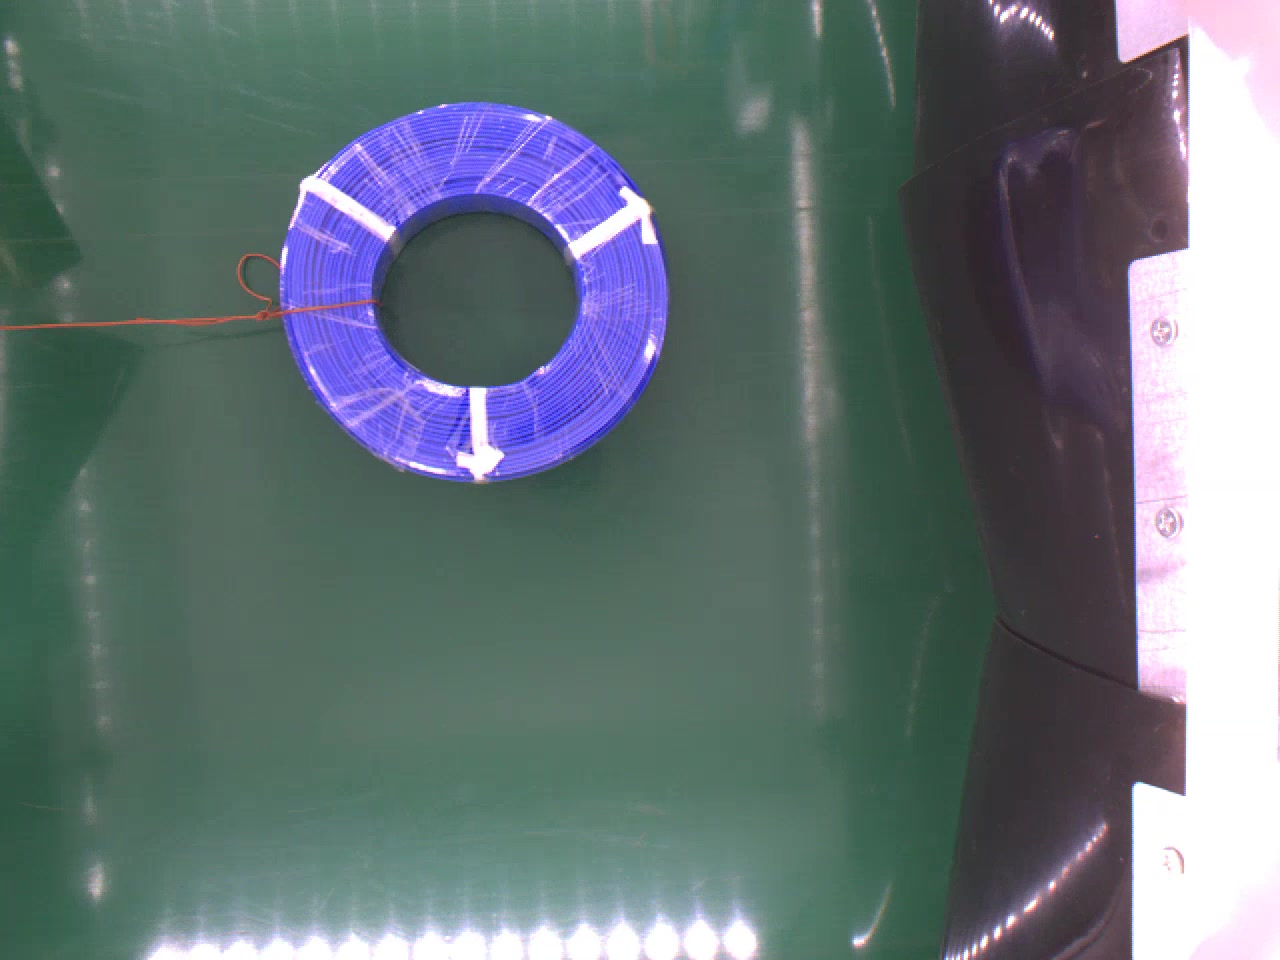blue: (279, 94, 672, 484)
